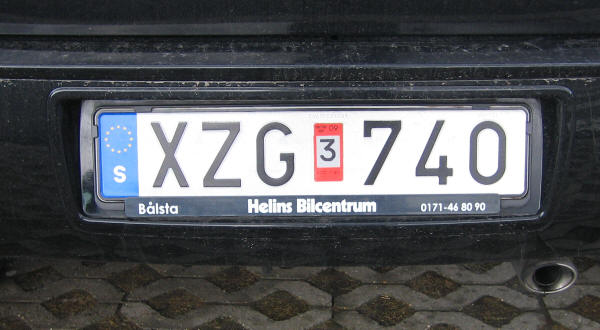license_plate: (95, 104, 528, 199)
